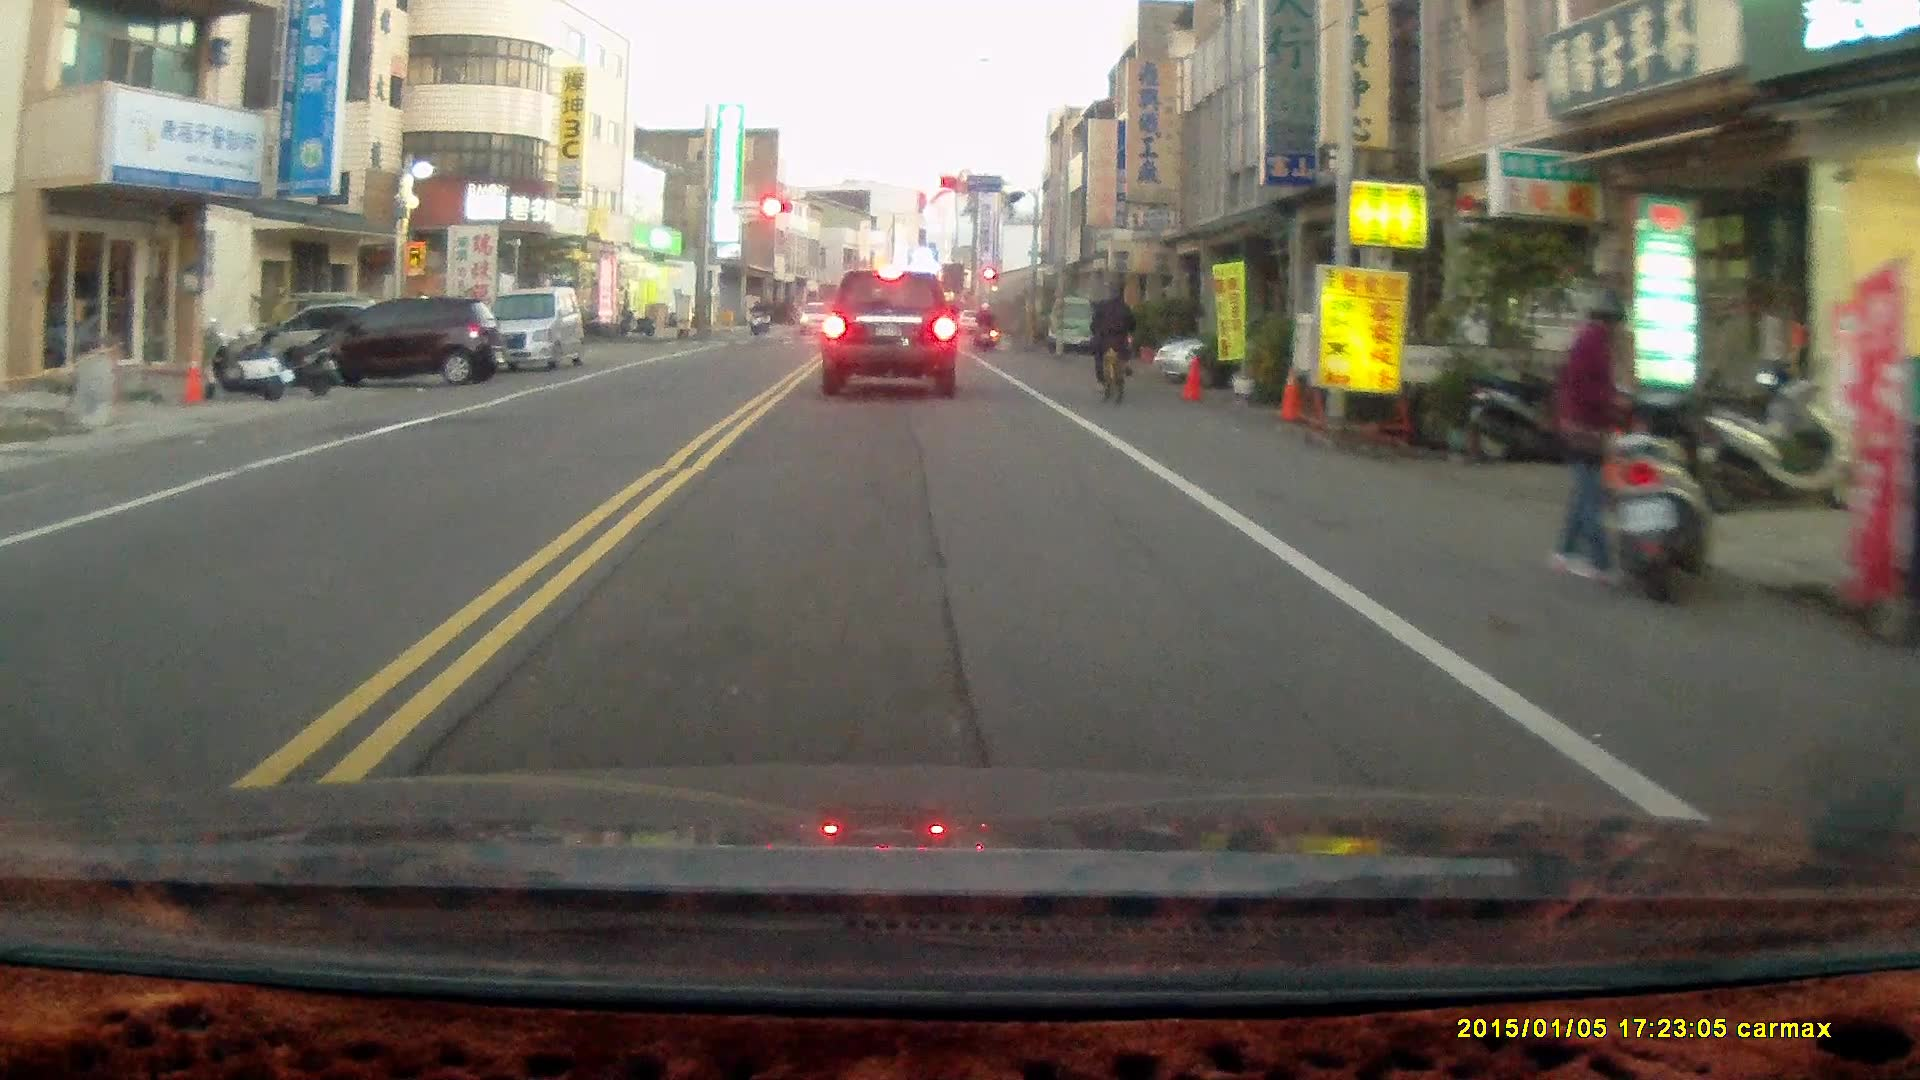pedestrian: (1549, 287, 1648, 588)
rider: (1089, 276, 1139, 403), (972, 296, 997, 350), (746, 298, 768, 338)
vehicle: (302, 296, 504, 396), (820, 268, 959, 400), (1152, 317, 1381, 388), (463, 285, 588, 373)
